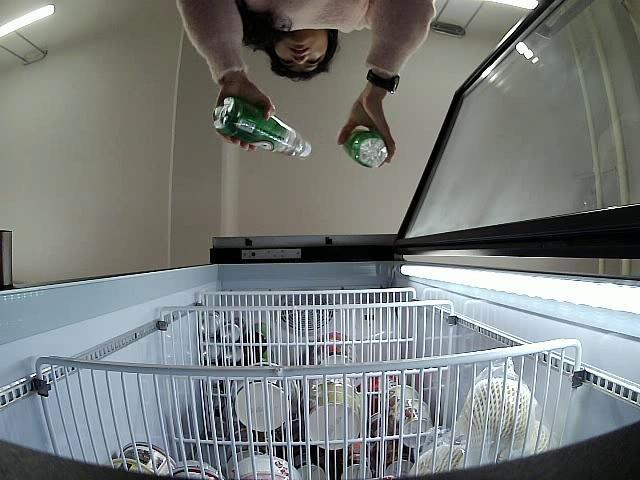18_trevi: (211, 96, 312, 158), (340, 127, 389, 168)
